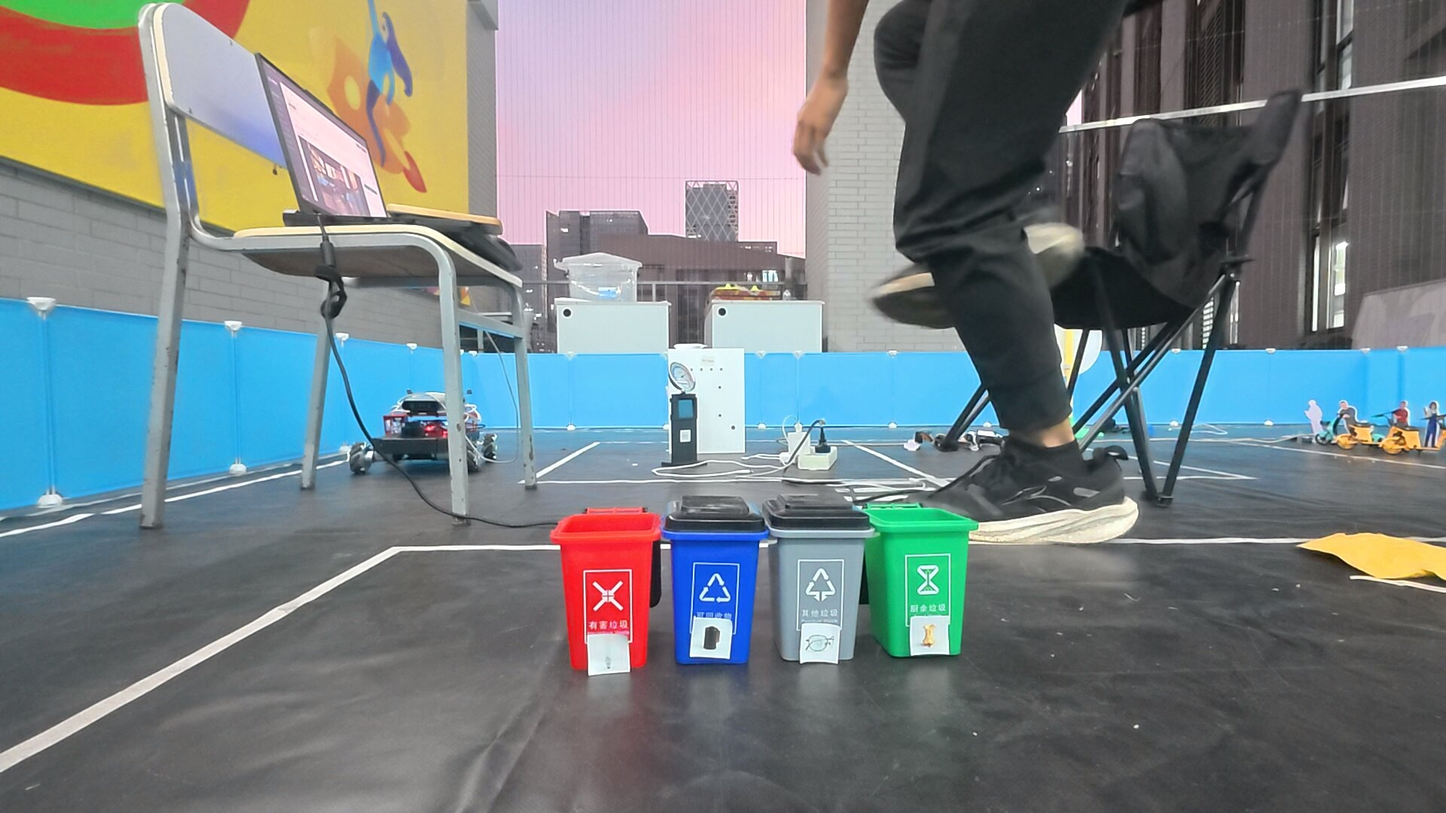food_trash: (910, 616, 949, 656)
hazardous_trash: (590, 634, 631, 674), (693, 619, 729, 659)
other_trash: (801, 624, 842, 665)
